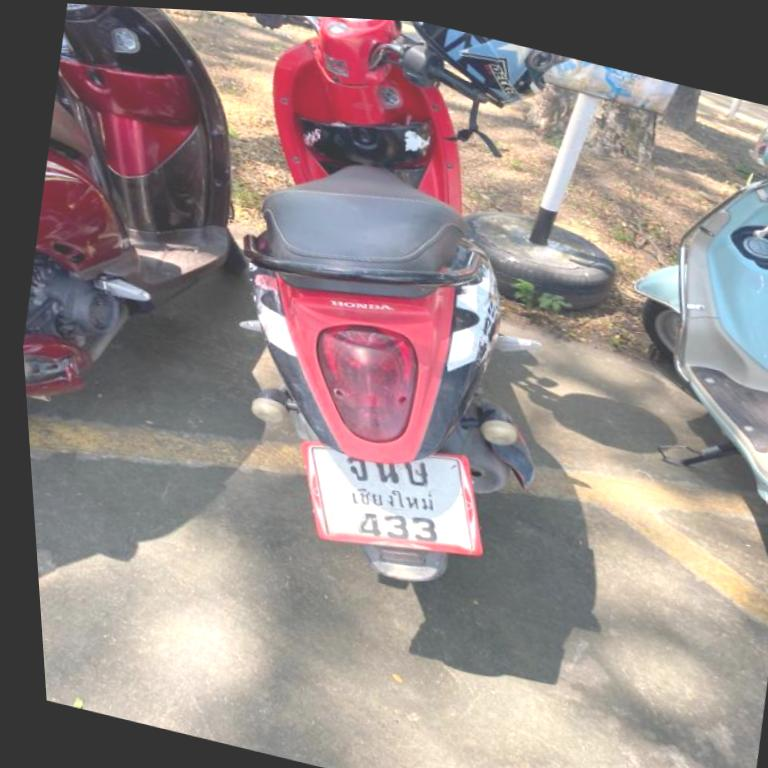license plate: (304, 443, 482, 554)
